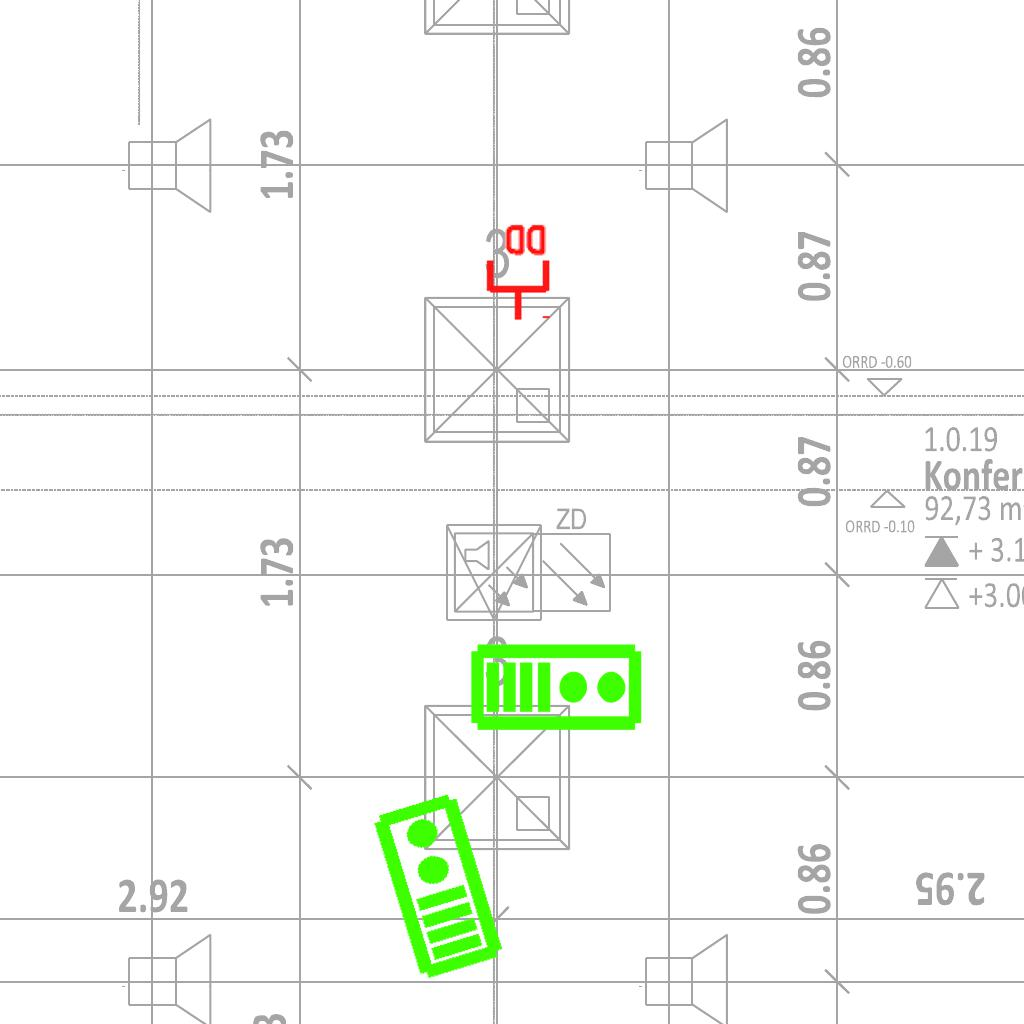Datenanschluss_zweifach: (482, 220, 551, 323)
Gegensprechanlage_mit_Video: (365, 787, 508, 985), (469, 638, 645, 733)
